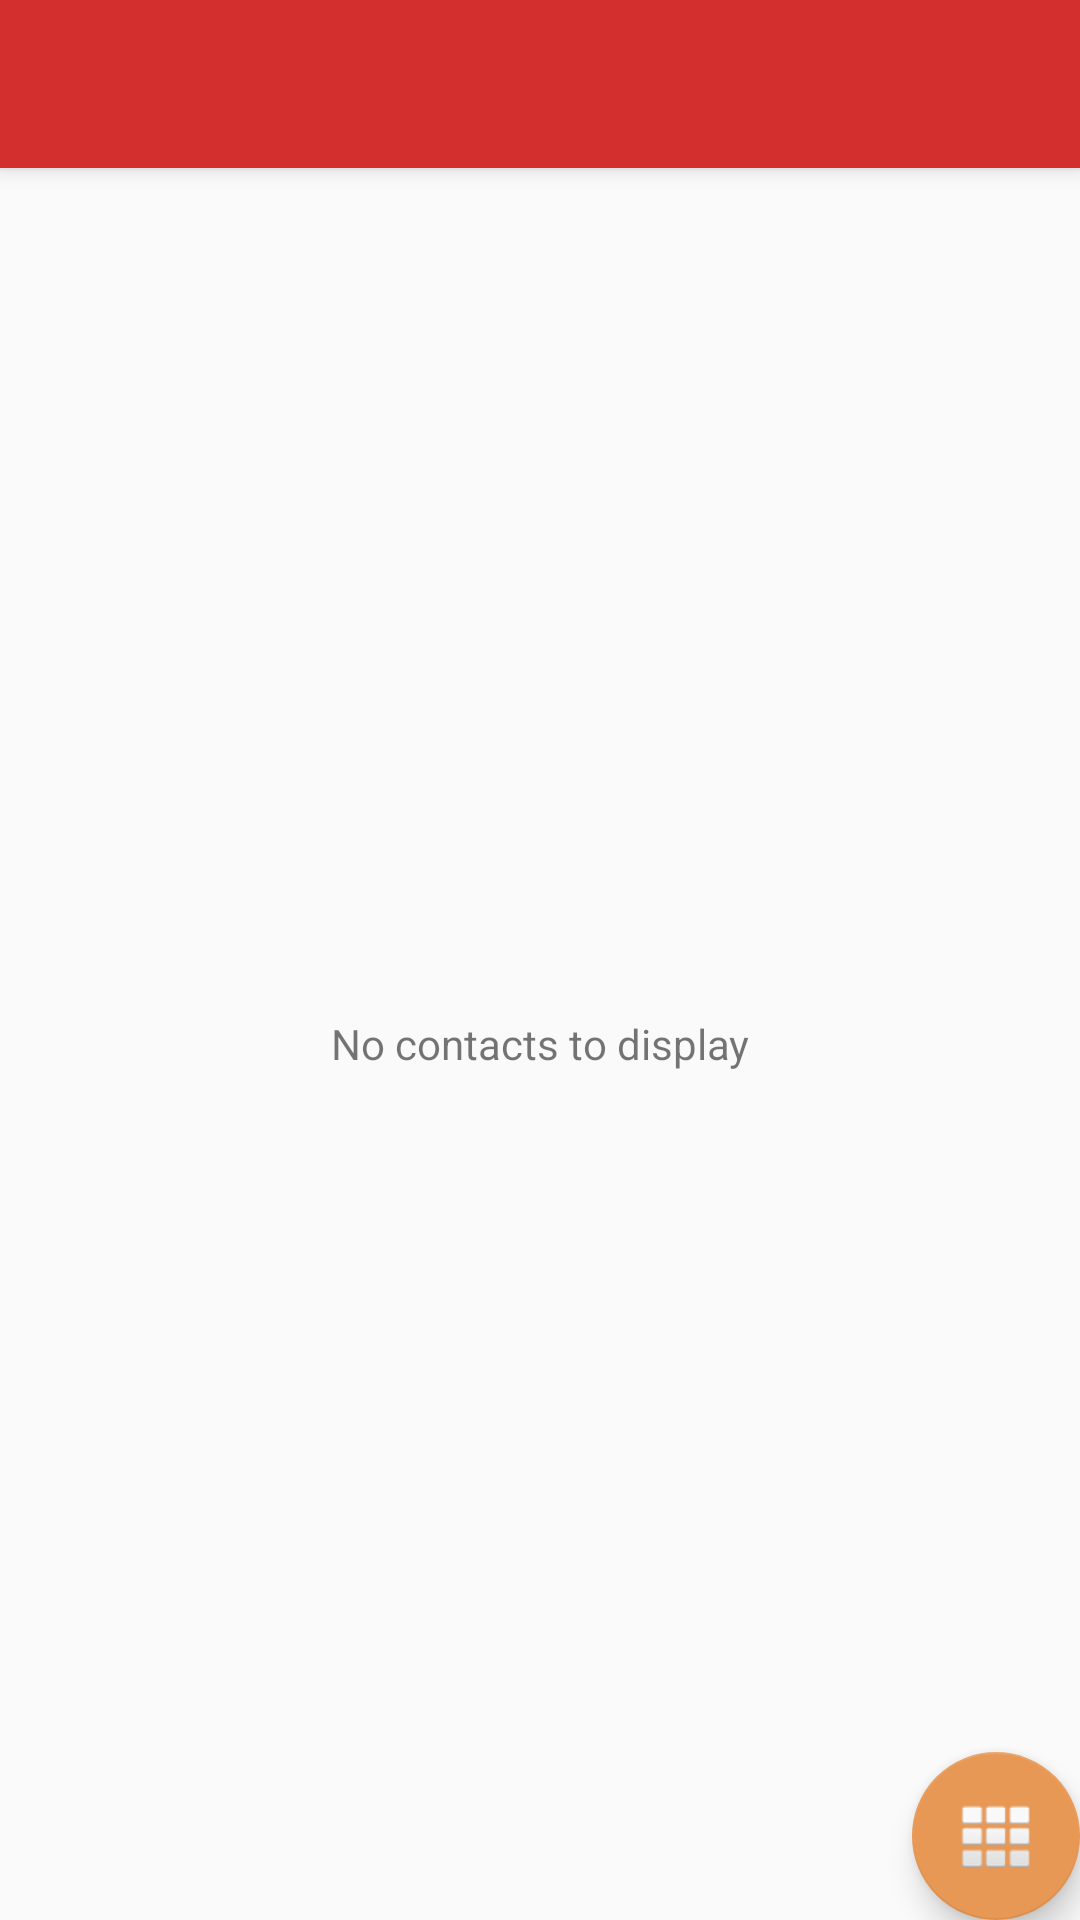

Point at icon controls on the screen. Image size 1080 x 1920, points as (x=x, y=y).
dialer: (x=996, y=1836)
